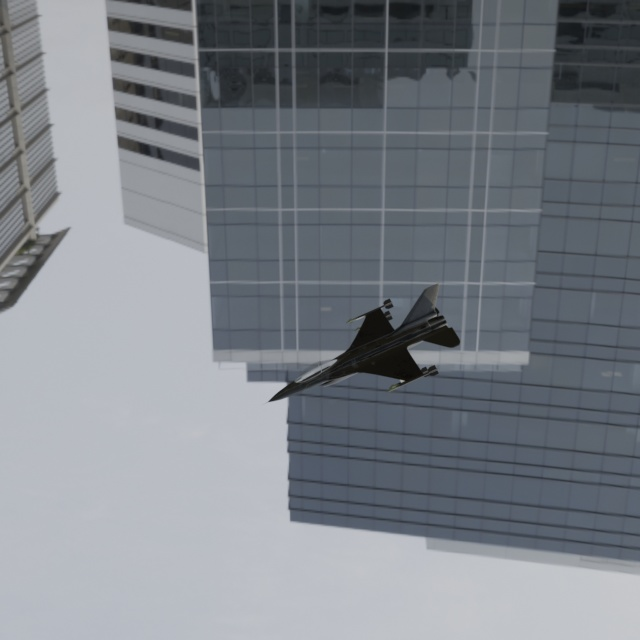model: (230, 253, 478, 451)
